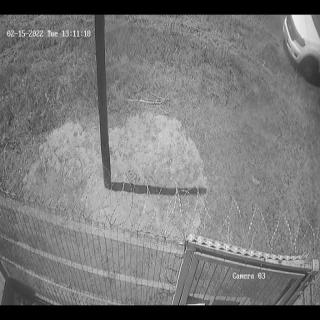car: (283, 14, 320, 82)
